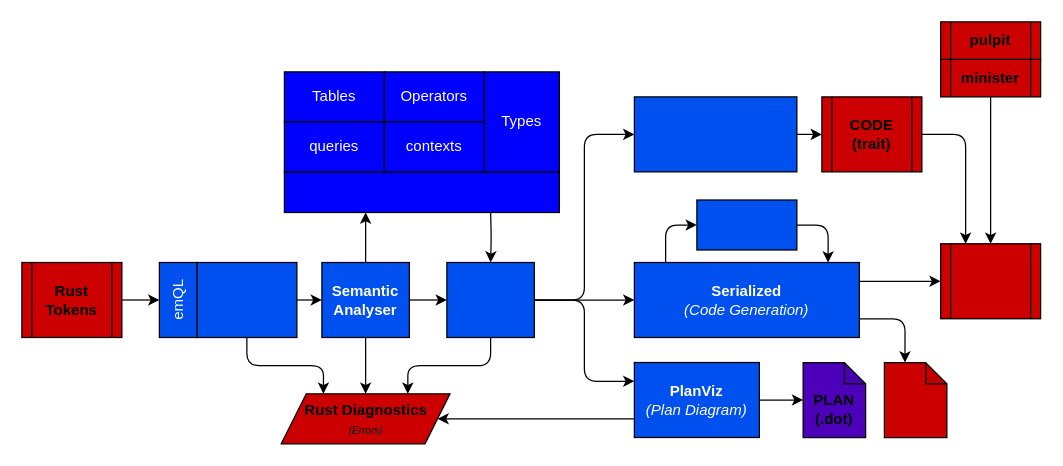
This 1063x466 diagram has some shape labels left out. The centre of each missing label's shape, as x and y in pixels:
Backend Select: the point at 490,299
CODE: the point at 990,280
DEBUG (.rs): the point at 915,399
Interface (Trait Generation): the point at 715,134
Logical Plan: the point at 421,191
Parser: the point at 246,299
pulpit gen: the point at 746,224
